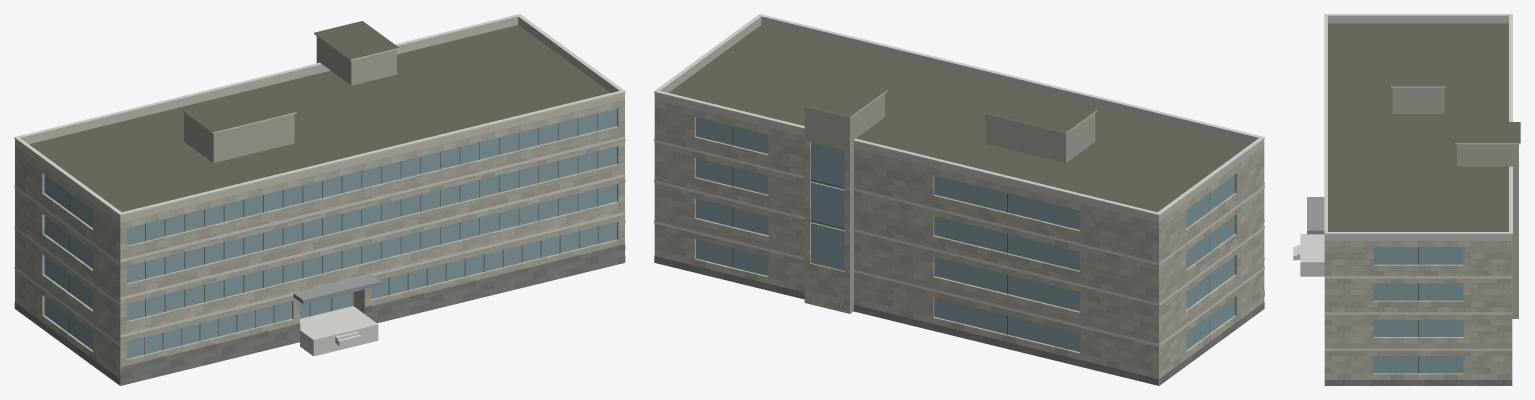
3 renders of one model, left to right at view 1: azimuth 30°, elevation 25°; view 2: azimuth 150°, elevation 25°; view 3: azimuth 270°, elevation 25°, orthographic. The views are drawn at different scales.
Visible parts, largest first — view 1: b934__wall, b934__roof, b934__glass, b934__trim, b934__parapet, b934__base, b934__wall2, b934__entranceStair, b934__frame, b934__canopy; view 2: b934__wall, b934__roof, b934__glass, b934__trim, b934__parapet, b934__wall2, b934__base; view 3: b934__roof, b934__wall, b934__glass, b934__trim, b934__wall2, b934__parapet, b934__entranceStair, b934__base, b934__canopy.
Boxes of the visible parts, x1,y1,x2,y2 form: b934__wall: [15, 100, 624, 385]; b934__roof: [29, 21, 623, 385]; b934__glass: [44, 108, 616, 358]; b934__trim: [14, 14, 625, 346]; b934__parapet: [15, 16, 624, 222]; b934__base: [14, 244, 625, 385]; b934__wall2: [184, 36, 396, 162]; b934__entranceStair: [300, 306, 378, 356]; b934__frame: [69, 113, 598, 354]; b934__canopy: [293, 274, 381, 304]; b934__wall: [654, 100, 1264, 385]; b934__roof: [669, 25, 1249, 212]; b934__glass: [696, 117, 1234, 351]; b934__trim: [654, 14, 1264, 346]; b934__parapet: [654, 16, 1264, 222]; b934__wall2: [804, 93, 1095, 313]; b934__base: [654, 256, 1264, 385]; b934__roof: [1328, 23, 1520, 231]; b934__wall: [1324, 241, 1512, 379]; b934__glass: [1373, 247, 1463, 373]; b934__trim: [1324, 14, 1520, 350]; b934__wall2: [1392, 87, 1518, 318]; b934__parapet: [1324, 15, 1512, 240]; b934__entranceStair: [1293, 234, 1324, 276]; b934__base: [1324, 380, 1512, 385]; b934__canopy: [1307, 197, 1324, 234].
Bounding box in the file's own units: 46.81 × 17.95 × 20.48.
Materials: 11 (2 with a texture image).
